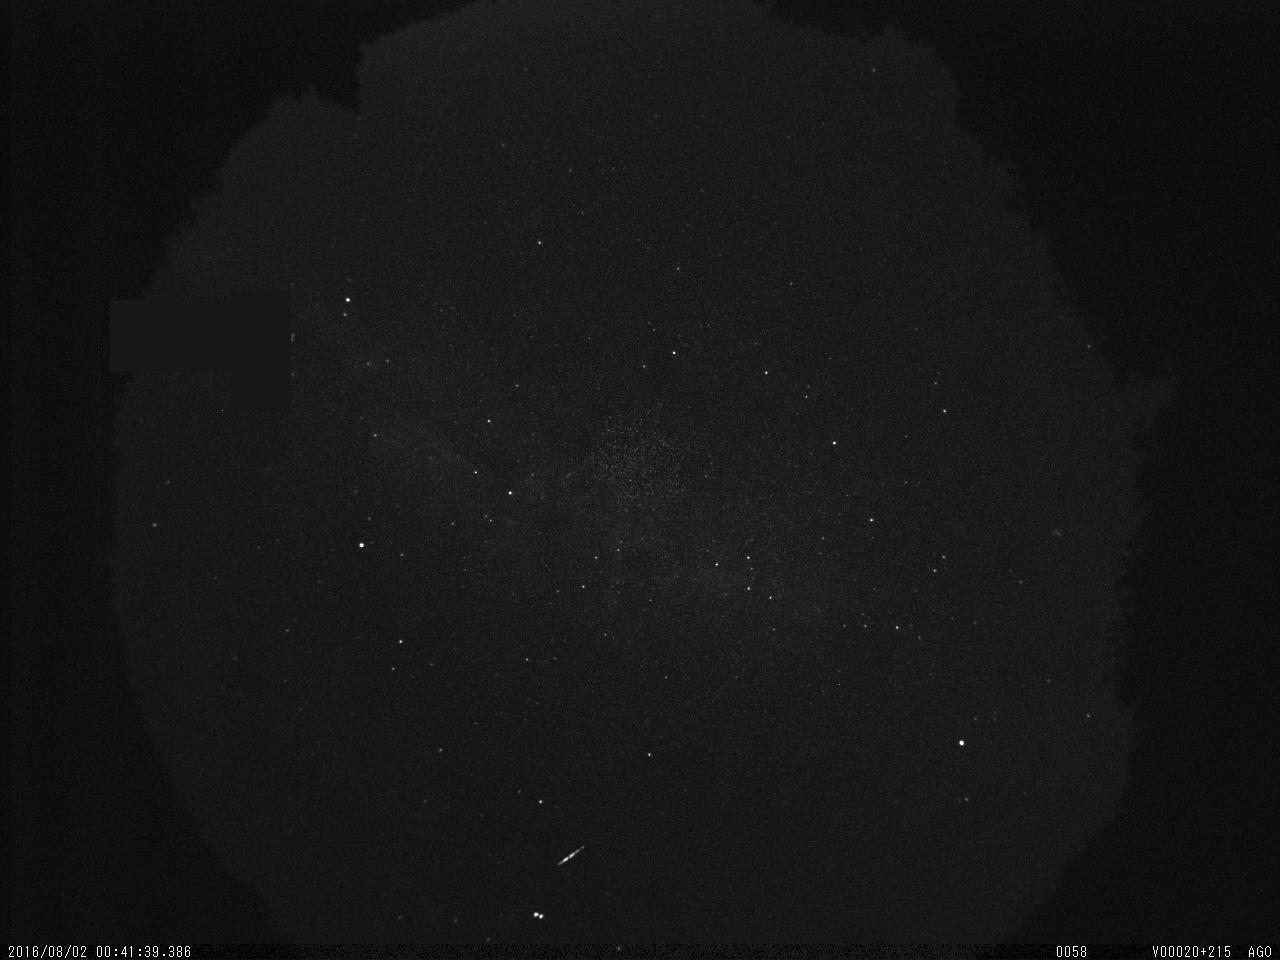meteor: (543, 835, 606, 882)
